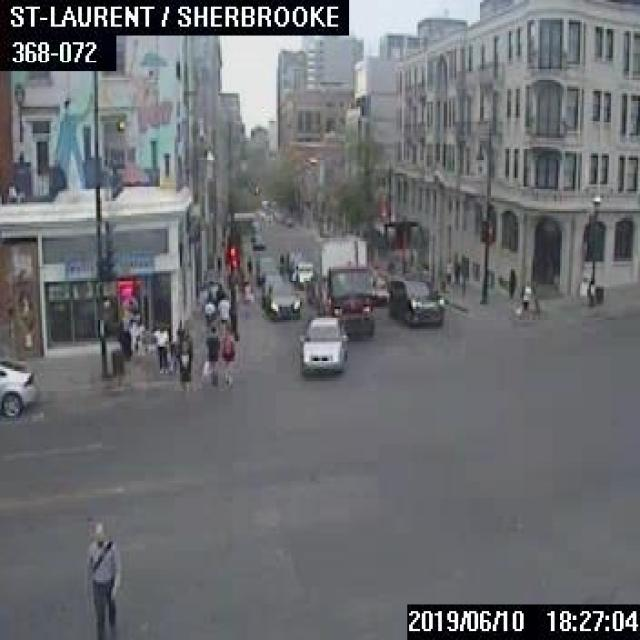pedestrian: (84, 522, 118, 638), (172, 338, 190, 394), (202, 324, 218, 384), (220, 326, 233, 386), (151, 324, 167, 372), (118, 325, 130, 377), (216, 294, 228, 332), (519, 281, 530, 314), (203, 296, 214, 328), (506, 266, 514, 298), (443, 256, 451, 284), (451, 257, 458, 283)
vehicle: (304, 230, 372, 338), (298, 315, 346, 372), (387, 276, 442, 324), (0, 355, 36, 415), (265, 281, 300, 319), (259, 272, 283, 303), (370, 268, 389, 302), (295, 261, 313, 286)
